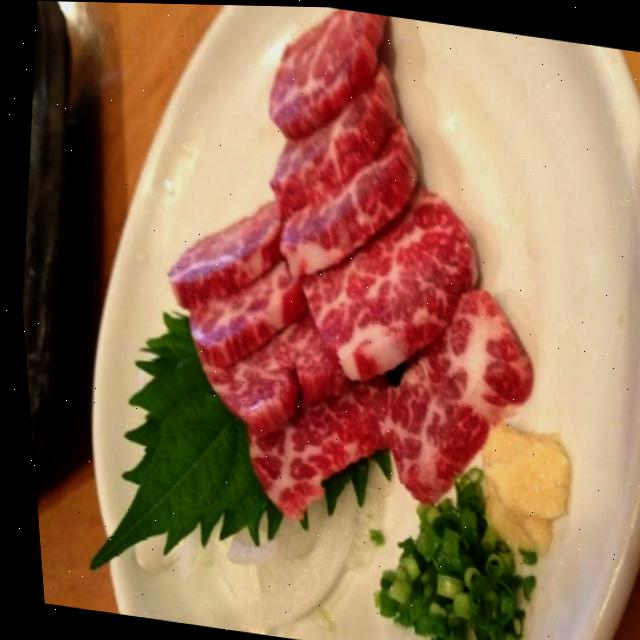刺身生食: (90, 2, 581, 547)
